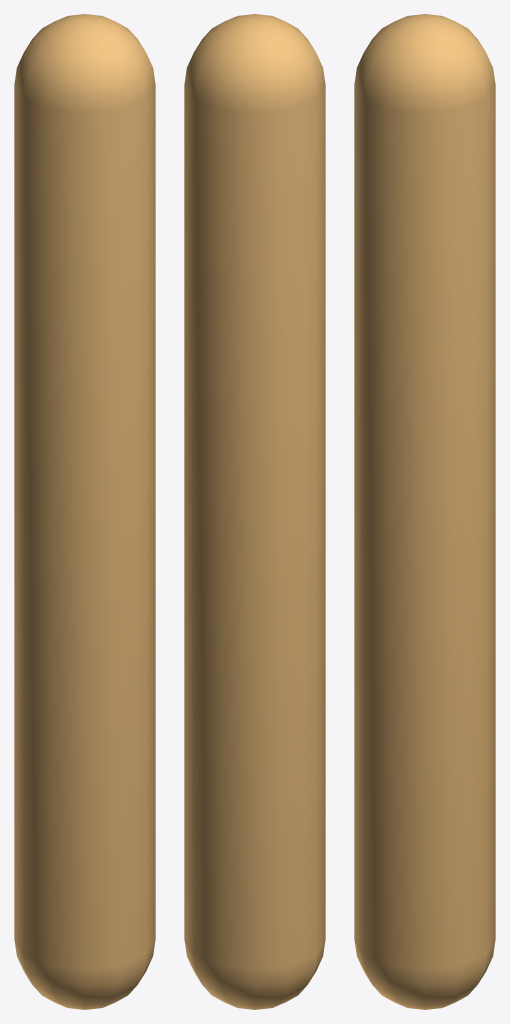
Rendered from upper_arm.glb.
3 views of the same model, side by side, from view 1: azimuth 30°, elevation 25°; view 2: azimuth 150°, elevation 25°; view 3: azimuth 330°, elevation 25° (orthographic).
Visible parts, largest first — view 1: upper_arm; view 2: upper_arm; view 3: upper_arm.
Part boxes in pixels (<box>): upper_arm: <box>14,14,155,1009</box>; upper_arm: <box>184,14,325,1009</box>; upper_arm: <box>354,14,495,1009</box>.
Size of the model in its own units: 0.13 by 1 by 0.13.
